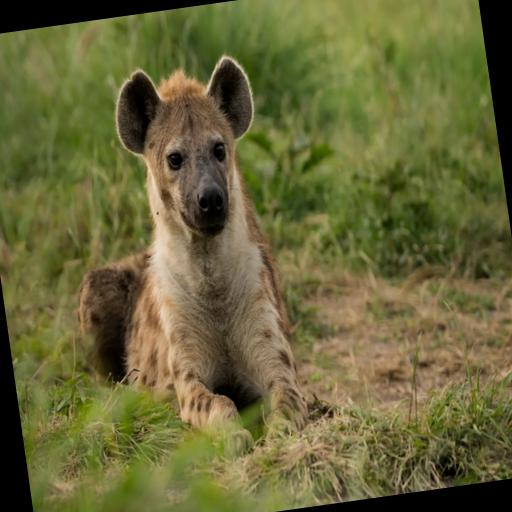hyenas: (44, 25, 358, 485)
